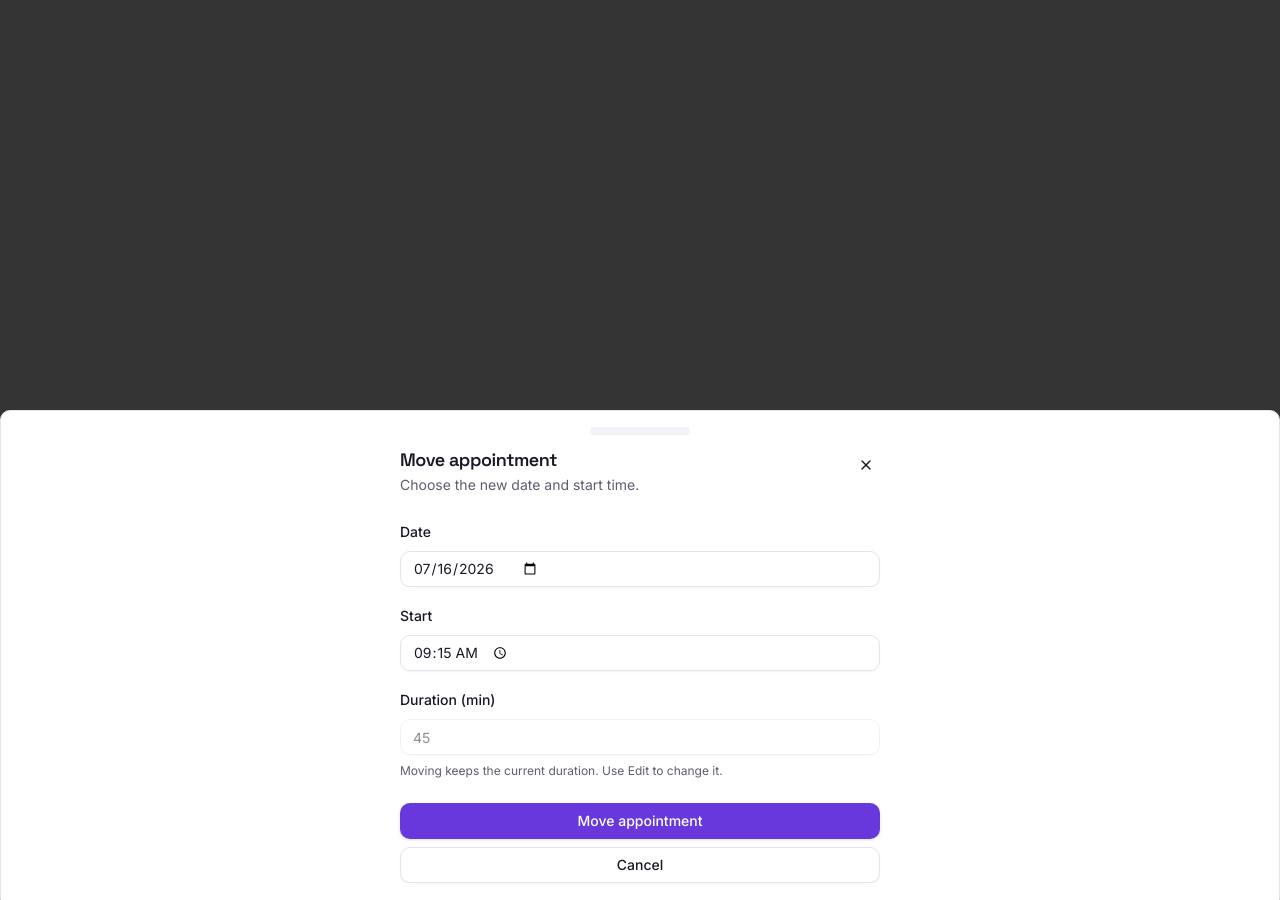
Test: MoveAppointmentSheet › blocks a move that would end after midnight before the API
Replace the text in the time field labelled "Start" with "23:30": (640, 653) [400,635,880,671]
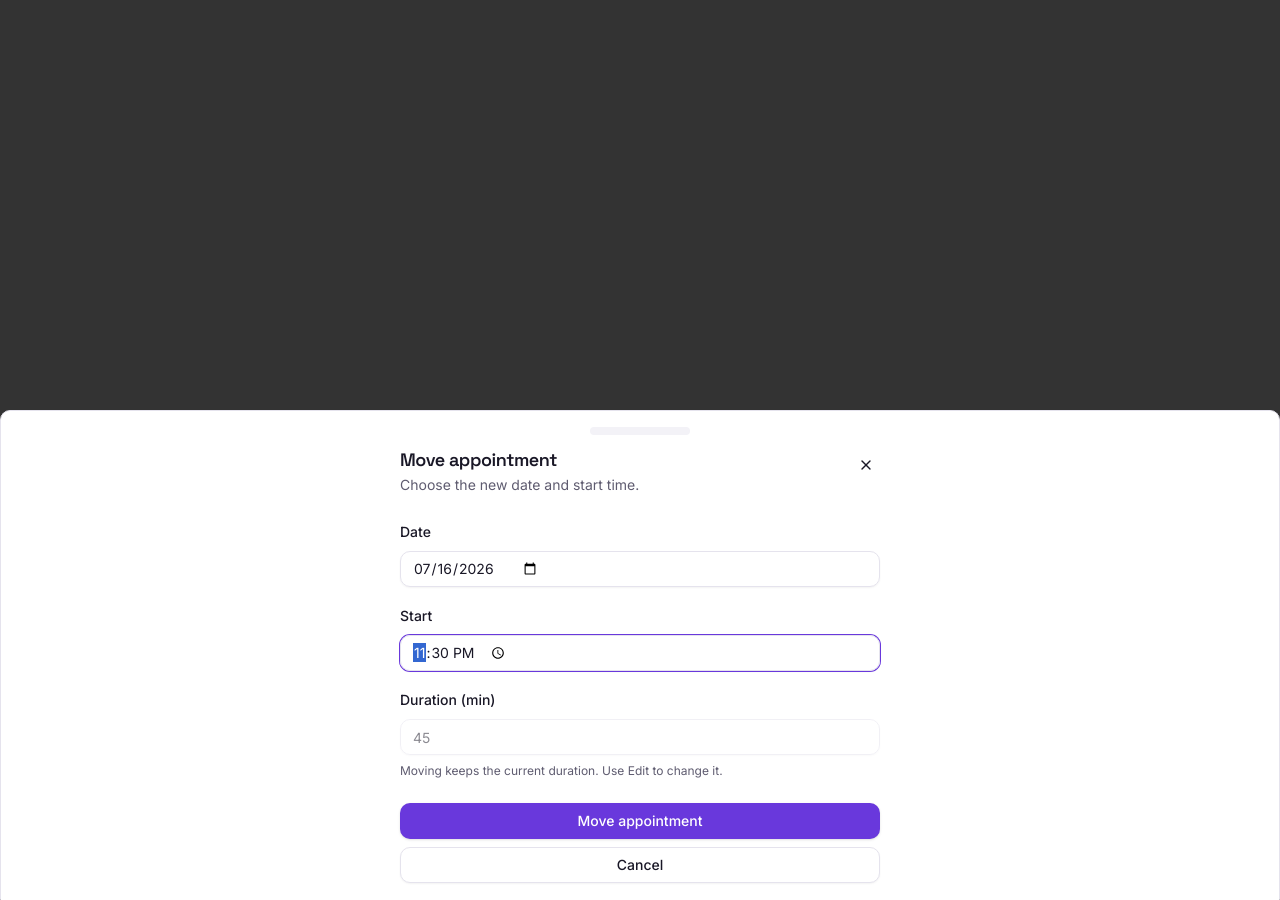
Click the button "Move appointment": click(640, 821) [400,803,880,839]
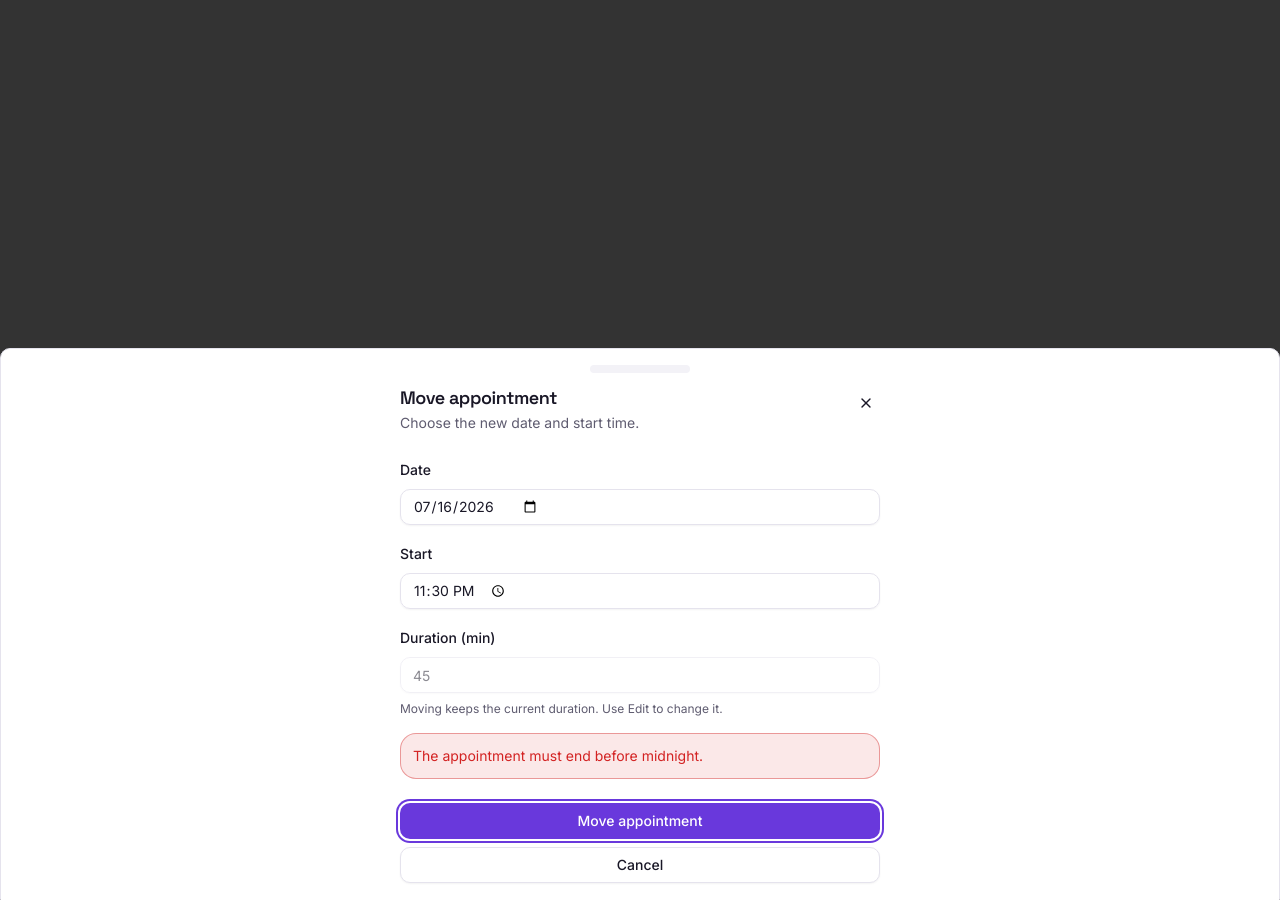
Expected: the message shows "before midnight", [413,747,703,764]
